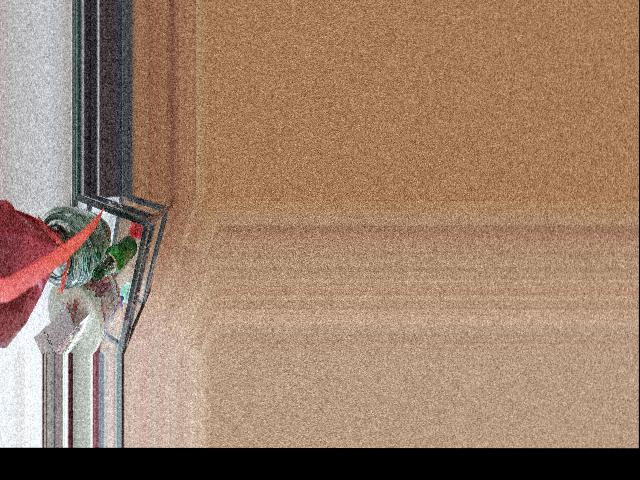beer: (92, 234, 137, 280)
